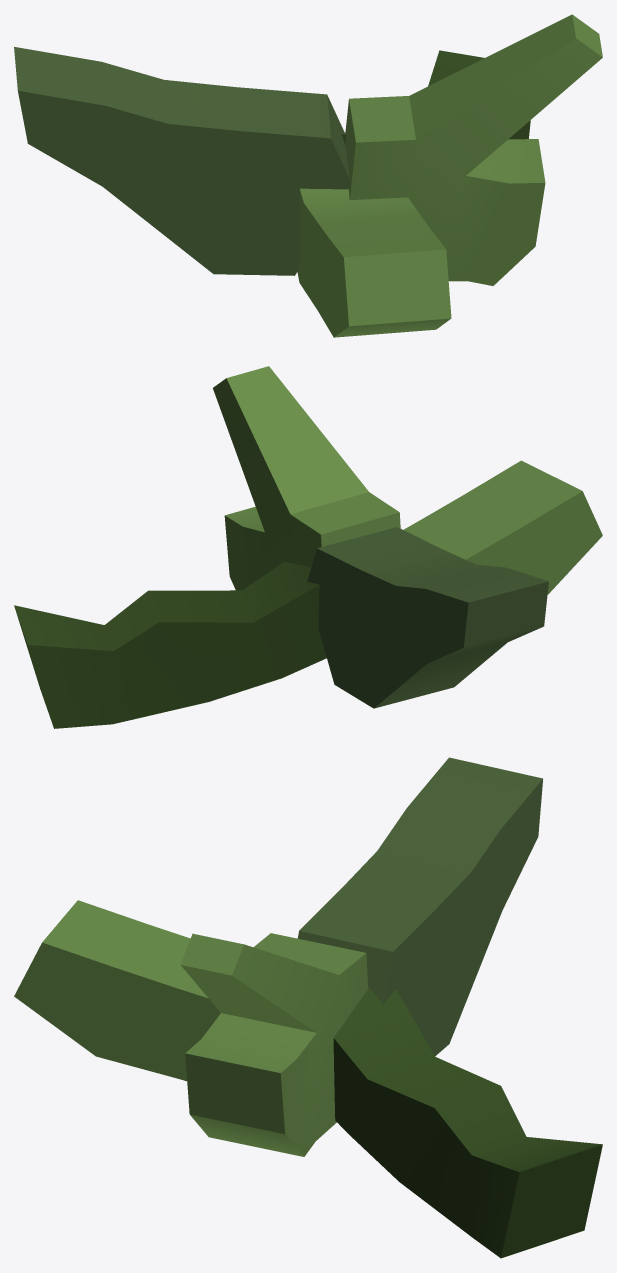
File: EverGreenBranch05.fbx
The picture shows the model from 3 angles, top to bottom: view 1: azimuth 30°, elevation 25°; view 2: azimuth 150°, elevation 25°; view 3: azimuth 270°, elevation 25°; orthographic projection. The views are drawn at different scales.
Visible parts, largest first — view 1: Evergreen05; view 2: Evergreen05; view 3: Evergreen05.
Part boxes in pixels (x1,y1,x2,y2): Evergreen05: (14, 14, 602, 337); Evergreen05: (14, 366, 602, 728); Evergreen05: (14, 757, 602, 1258).
Bounding box in the file's own units: 143 × 67.94 × 129.
